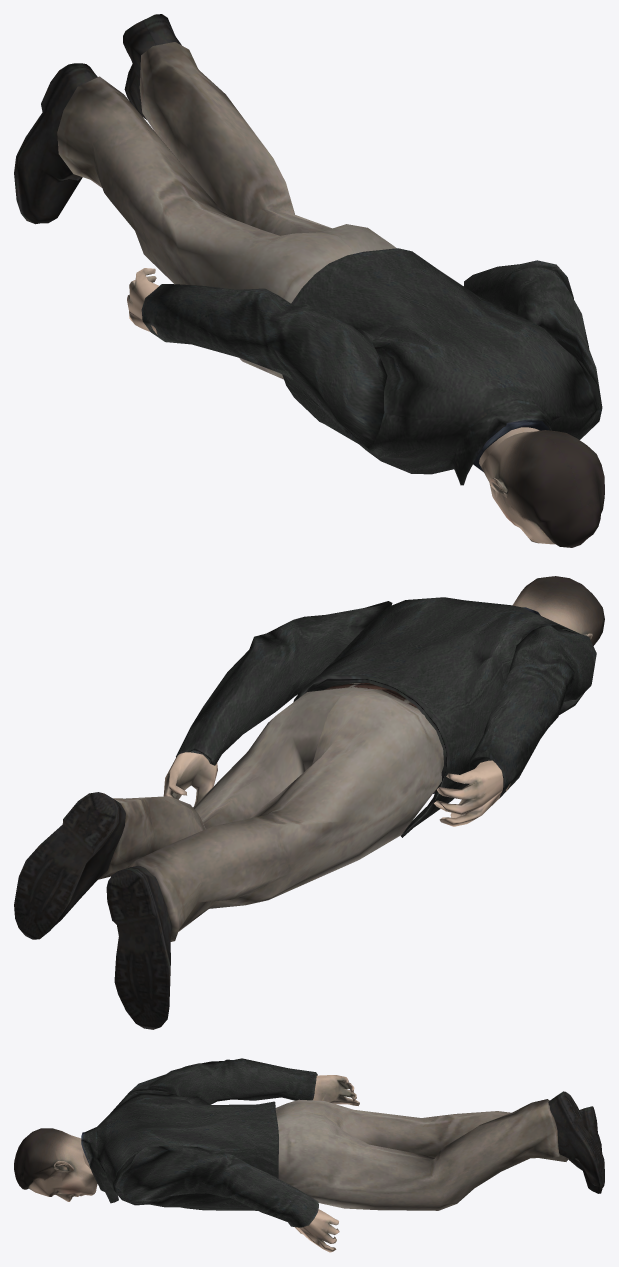
File: dest_nt_nuked_male_01_d0_LOD1.obj
3 views of the same model, one above another, from view 1: azimuth 30°, elevation 25°; view 2: azimuth 150°, elevation 25°; view 3: azimuth 270°, elevation 25° (orthographic). The views are drawn at different scales.
Parts seen in each view (by area): view 1: mtl_nt_2020_manne_male01_jacket1, mtl_nt_2020_manne_male01_pants1, mtl_nt_2020_manne_male01_head1; view 2: mtl_nt_2020_manne_male01_pants1, mtl_nt_2020_manne_male01_jacket1, mtl_nt_2020_manne_male01_head1; view 3: mtl_nt_2020_manne_male01_jacket1, mtl_nt_2020_manne_male01_pants1, mtl_nt_2020_manne_male01_head1.
Boxes of the visible parts, box(x1,y1,x2,y2) form: mtl_nt_2020_manne_male01_jacket1: box(141, 248, 602, 485); mtl_nt_2020_manne_male01_pants1: box(14, 14, 396, 379); mtl_nt_2020_manne_male01_head1: box(127, 268, 604, 547); mtl_nt_2020_manne_male01_pants1: box(14, 683, 443, 1029); mtl_nt_2020_manne_male01_jacket1: box(176, 597, 596, 837); mtl_nt_2020_manne_male01_head1: box(163, 576, 604, 826); mtl_nt_2020_manne_male01_jacket1: box(81, 1058, 318, 1227); mtl_nt_2020_manne_male01_pants1: box(275, 1091, 604, 1210); mtl_nt_2020_manne_male01_head1: box(14, 1075, 359, 1252).
Bounding box in the file's own units: 75.63 × 42.98 × 184.
